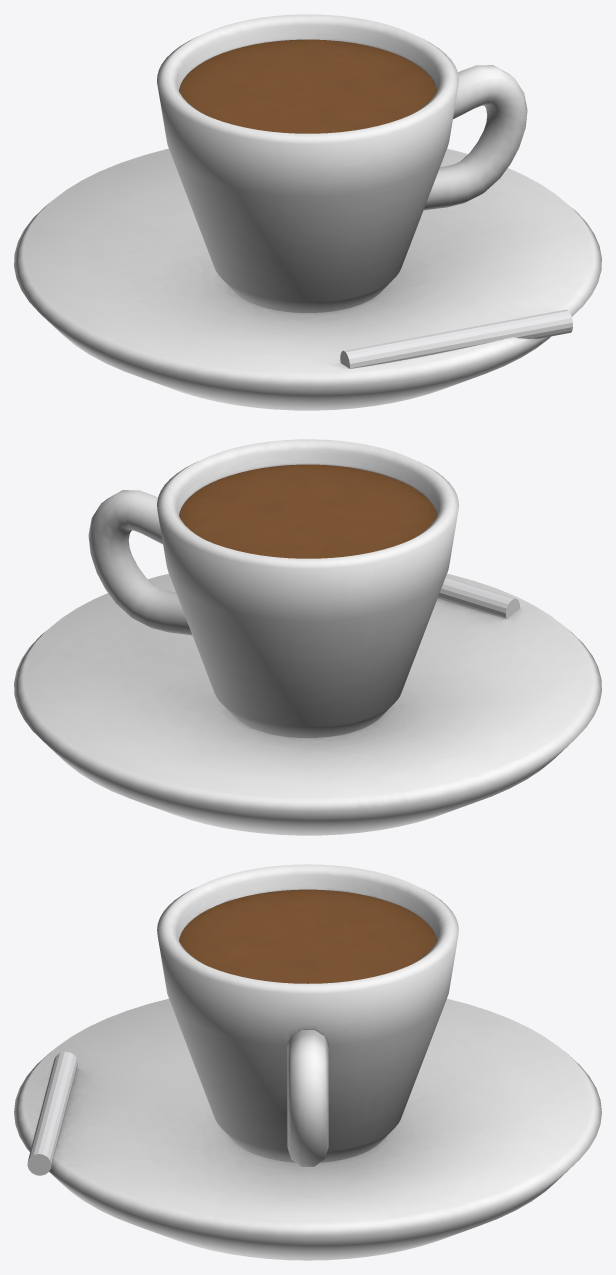
Rendered from espresso.glb.
The picture shows the model from 3 angles, top to bottom: view 1: azimuth 30°, elevation 25°; view 2: azimuth 150°, elevation 25°; view 3: azimuth 270°, elevation 25°; orthographic projection.
Visible parts, largest first — view 1: ceramic_primary, crema, chrome; view 2: ceramic_primary, crema, chrome; view 3: ceramic_primary, crema, chrome.
Boxes of the visible parts, x1=… form: ceramic_primary: x1=14, y1=14, x2=601, y2=410; crema: x1=179, y1=39, x2=436, y2=133; chrome: x1=340, y1=309, x2=572, y2=368; ceramic_primary: x1=14, y1=439, x2=601, y2=835; crema: x1=179, y1=464, x2=436, y2=558; chrome: x1=438, y1=577, x2=519, y2=618; ceramic_primary: x1=14, y1=864, x2=601, y2=1260; crema: x1=179, y1=889, x2=436, y2=983; chrome: x1=27, y1=1051, x2=77, y2=1175.
Size of the model in its own units: 0.1215 by 0.0569 by 0.1215.
Materials: 3 (2 with a texture image).
